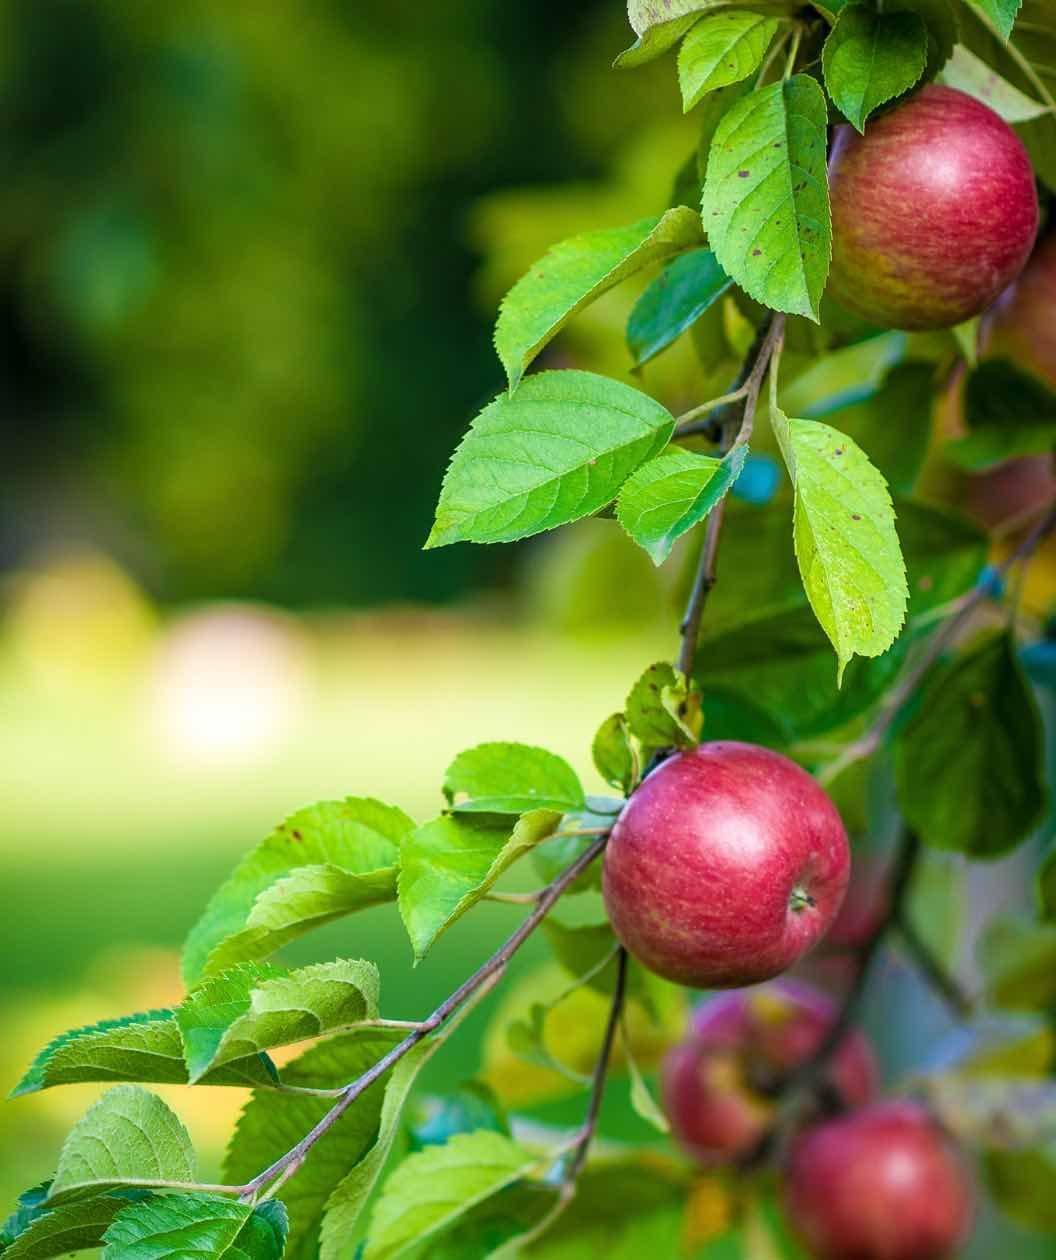apple: (607, 749, 846, 987), (821, 82, 1040, 339), (778, 1100, 980, 1260)
